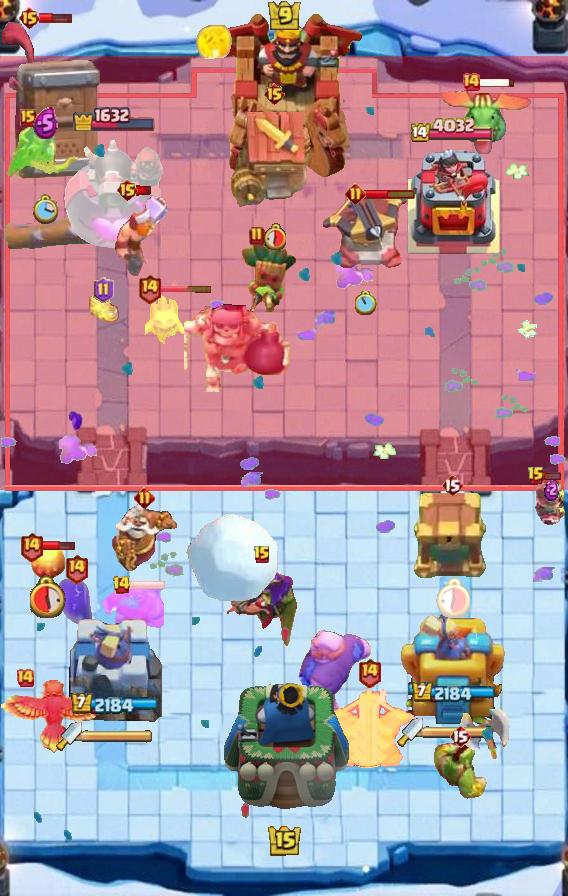balloon: (280, 628, 374, 720)
bar: (401, 601, 505, 731), (66, 611, 162, 731)
barbarian-hut: (222, 564, 302, 652), (3, 116, 81, 184)
bomb: (413, 492, 491, 580)
bomber-evolution: (532, 479, 568, 527)
dart-goblin: (0, 21, 104, 179)
electro-giant: (185, 300, 291, 393)
electro-spirit: (34, 107, 59, 139), (545, 479, 559, 501)
electro-wizard: (438, 86, 532, 158)
elixir: (29, 575, 67, 618), (435, 578, 470, 619), (32, 195, 58, 225), (262, 223, 285, 250), (355, 291, 377, 315)
elixir-collector: (108, 503, 180, 579)
emote: (364, 188, 417, 200), (159, 284, 213, 293), (129, 579, 166, 591), (41, 540, 76, 552), (480, 77, 517, 88), (40, 12, 73, 24), (542, 471, 562, 481), (135, 185, 153, 196)
flying-machine: (432, 739, 488, 799)
goblin-barrel: (239, 238, 299, 318)
golden-knight: (0, 680, 110, 756)
hog: (31, 542, 65, 580)
ice-spirit-evolution: (86, 296, 120, 328)
king-tower: (205, 11, 363, 181), (219, 678, 349, 826)
king-tower-bar: (423, 725, 495, 739), (82, 729, 154, 743)
lava-pup: (320, 689, 418, 771), (322, 190, 410, 272)
mighty-miner: (112, 193, 168, 279)
minion: (4, 213, 104, 251)
mirror: (145, 291, 189, 345)
queen-tower: (403, 146, 503, 256)
royal-giant: (459, 709, 511, 761)
selected: (412, 117, 497, 145), (71, 104, 156, 131), (70, 692, 158, 715), (411, 682, 495, 704)
sparky: (231, 111, 317, 209)
spear-goblin: (56, 578, 96, 626)
text: (138, 273, 163, 304), (64, 553, 89, 584), (357, 657, 382, 687), (20, 531, 44, 561), (19, 6, 42, 30), (262, 82, 285, 106), (116, 178, 139, 202), (94, 277, 115, 303), (441, 473, 463, 497), (449, 724, 471, 748), (346, 183, 367, 205), (133, 488, 154, 509), (461, 72, 481, 92), (15, 668, 35, 688), (113, 575, 132, 595), (527, 466, 545, 486), (253, 545, 271, 565), (249, 226, 265, 246), (20, 109, 36, 127)
tornado: (100, 582, 164, 632)
tower-bar: (60, 132, 167, 256)
valkyrie: (192, 22, 236, 68)
wall-breaker: (186, 512, 280, 604)
